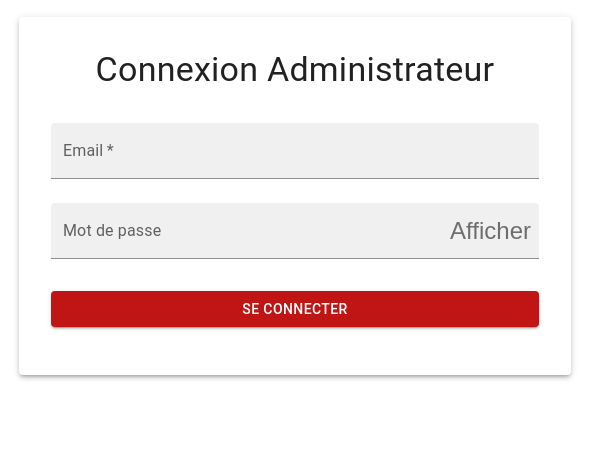
Test: ConnectionPage Component › affiche un message d'erreur lors d'une connexion échouée
Type "test@example.com" into the field labelled "Email *" at (295,151), box [51,123,539,179]
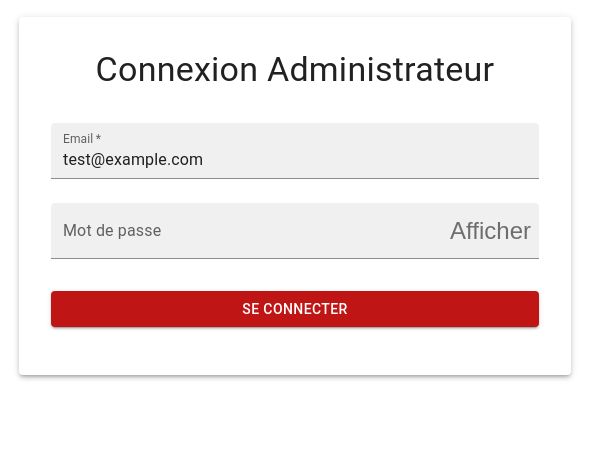
Type "wrongpassword" into the password field labelled "Mot de passe" at (243,231), box [51,203,434,259]
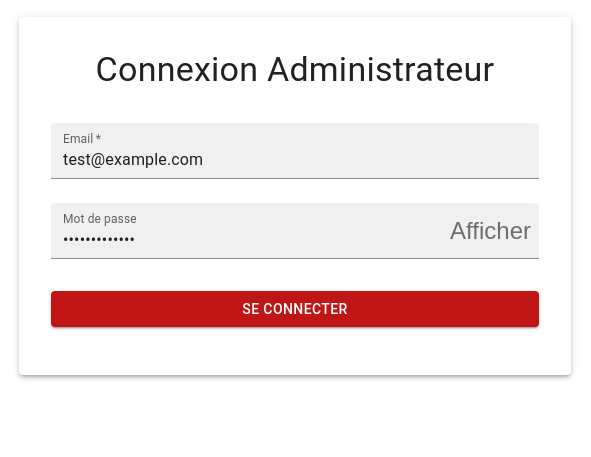
Click the button "Se connecter" at (295,309), box [51,291,539,328]
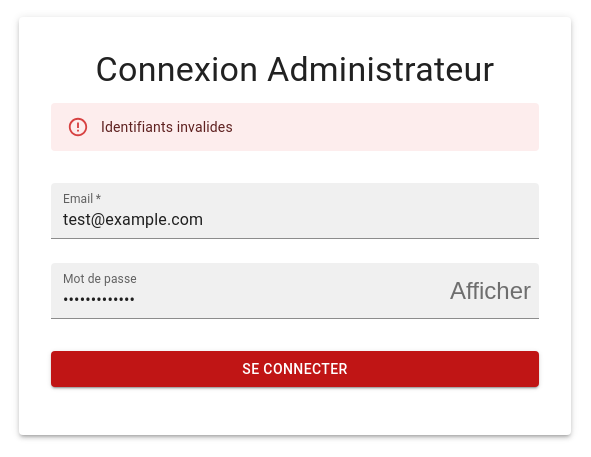
Expected: the text "Identifiants invalides" is shown, [101,119,233,135]
